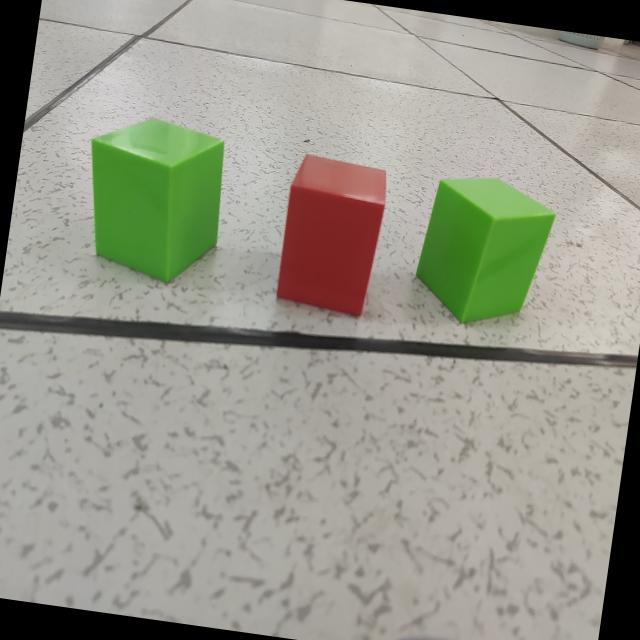green: (89, 120, 226, 285), (415, 178, 556, 325)
red: (276, 156, 387, 319)
